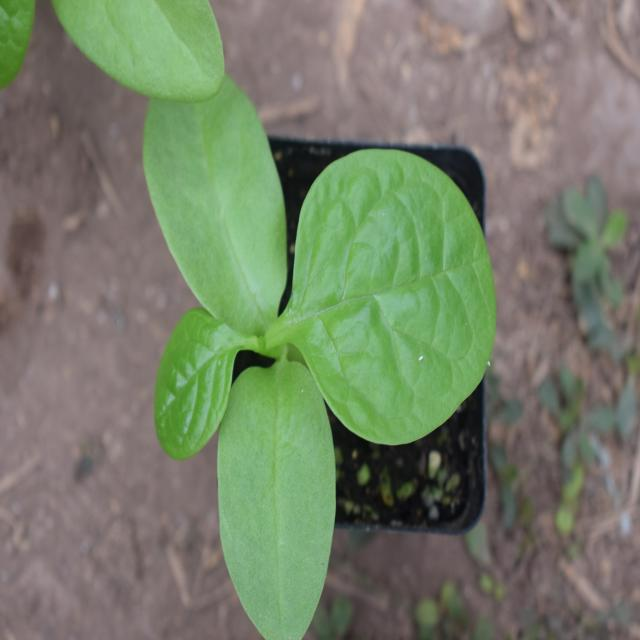Ceylon spinach: (154, 89, 495, 612)
